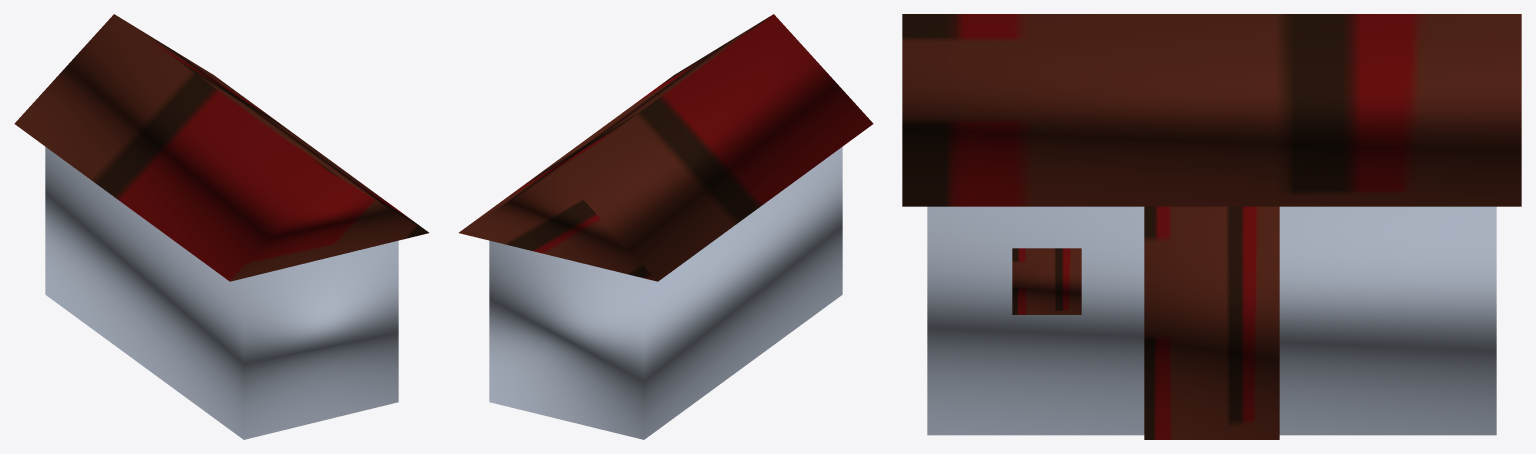
File: House.glb
3 views of the same model, side by side, from view 1: azimuth 30°, elevation 25°; view 2: azimuth 150°, elevation 25°; view 3: azimuth 270°, elevation 25° (orthographic). The views are drawn at different scales.
Visible parts, largest first — view 1: Cube.001; view 2: Cube.001; view 3: Cube.001.
Boxes of the visible parts, x1,y1,x2,y2 form: Cube.001: (14,14,428,439); Cube.001: (459,14,873,439); Cube.001: (902,14,1521,439).
Size of the model in its own units: 4.89 by 5.99 by 9.15.
3 materials, 3 textured.
